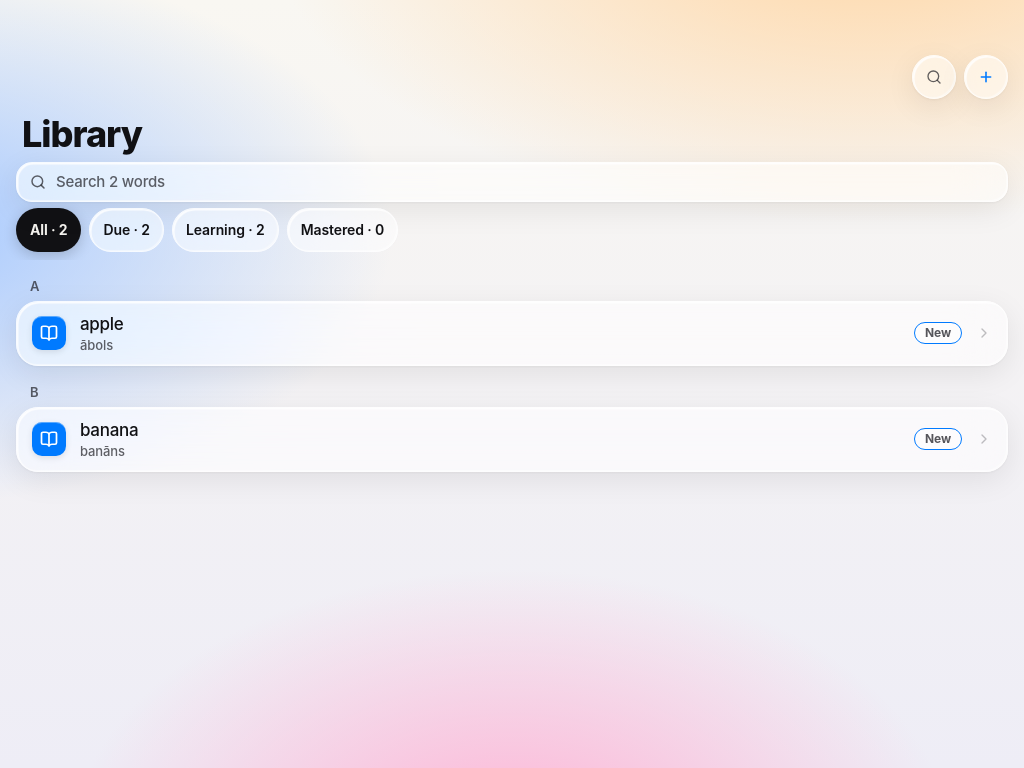
Test: LibraryScreen › Search field › should filter word list when typing in the search box
Expected: the text "apple" is shown, [80,314,124,334]
Expected: the text "banana" is shown, [80,420,138,440]
Type "apple" into the search field at (524,182), box [54,171,994,192]
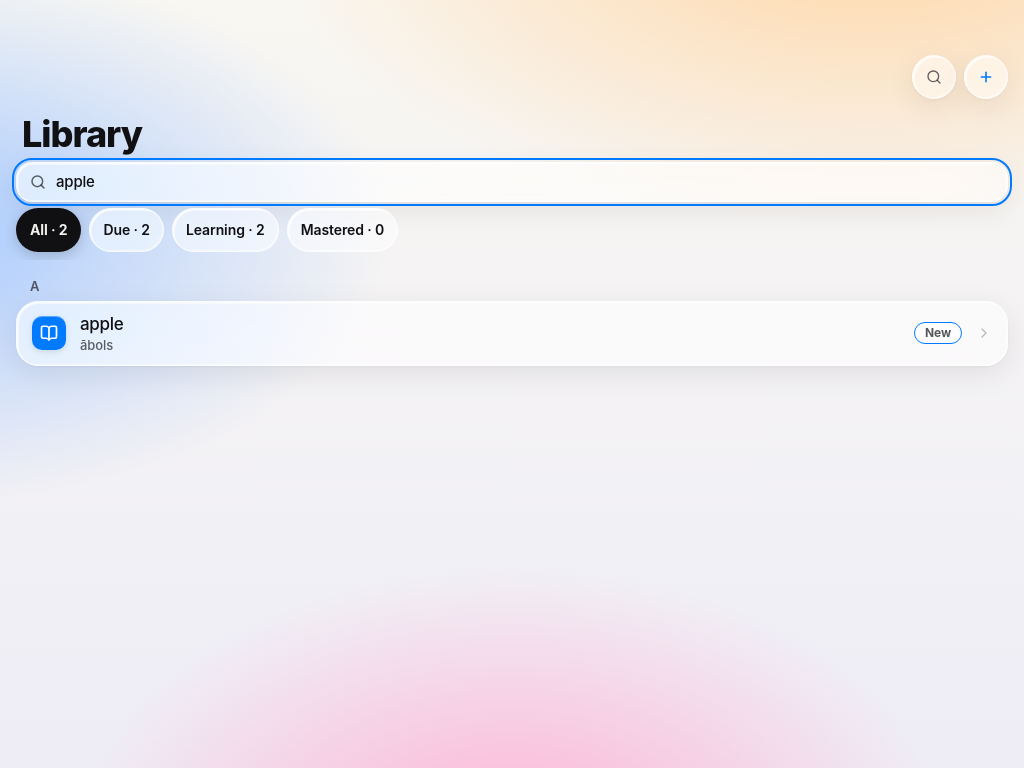
Expected: the text "apple" is shown, [80,314,124,334]
Now the button "banana" is gone
